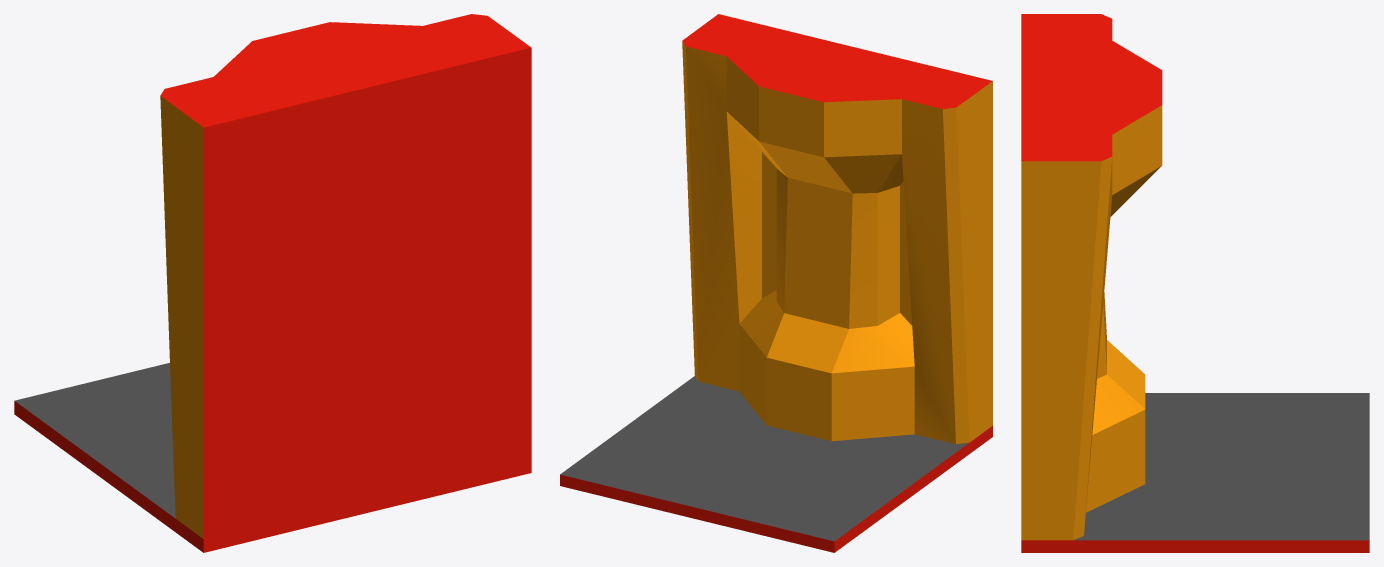
The picture shows the model from 3 angles, left to right: view 1: azimuth 30°, elevation 25°; view 2: azimuth 150°, elevation 25°; view 3: azimuth 270°, elevation 25°; orthographic projection. The views are drawn at different scales.
Parts seen in each view (by area): view 1: S023; view 2: S023; view 3: S023.
Boxes of the visible parts, x1=… form: S023: x1=14, y1=14, x2=531, y2=552; S023: x1=560, y1=14, x2=992, y2=552; S023: x1=1021, y1=14, x2=1369, y2=552.
Size of the model in its own units: 200 by 248 by 200.
